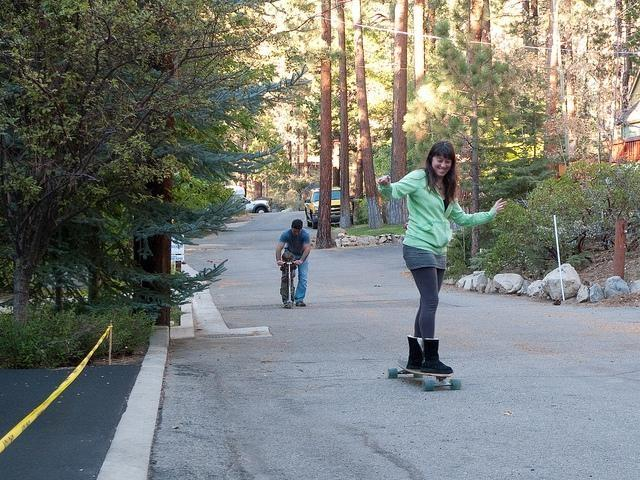car: (304, 187, 352, 229), (235, 196, 271, 213)
truck: (304, 186, 354, 230), (227, 185, 272, 213)
